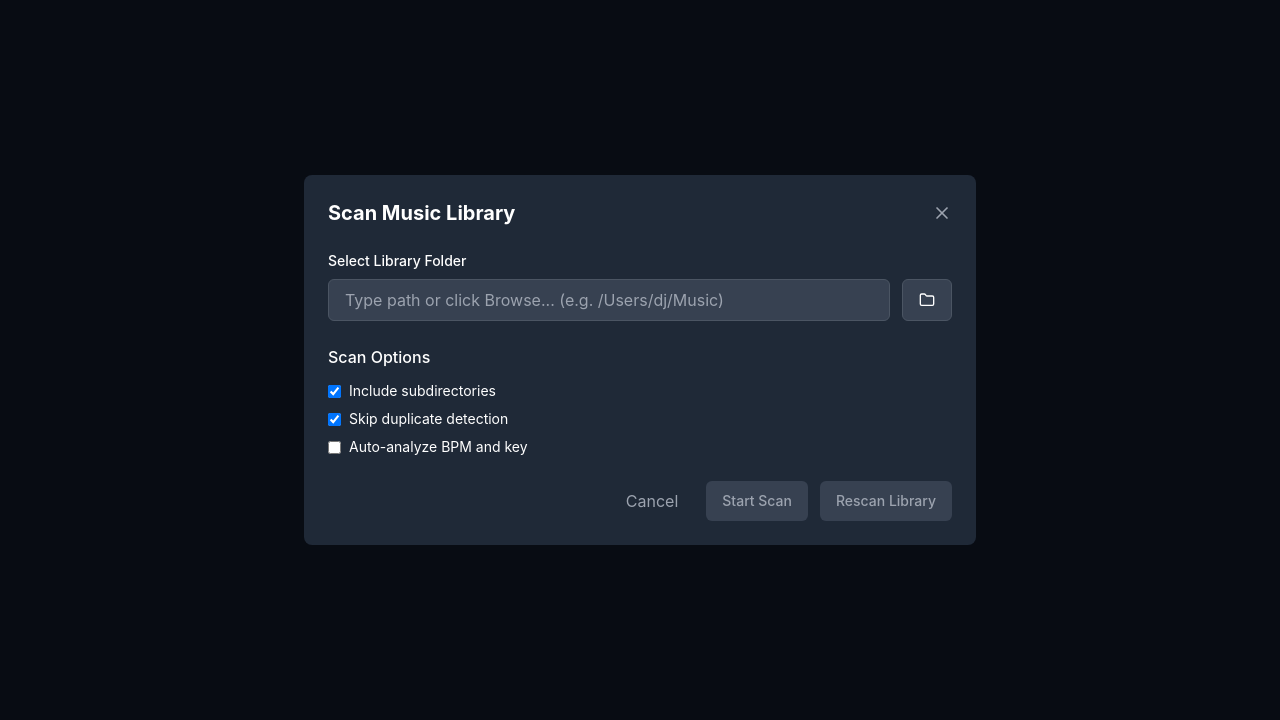
Test: ScanDialog Component › Folder Selection › enables scan button when path is entered
Check: the button "Start Scan" is disabled, box [706,481,808,521]
Step 1. Type "/Users/test/Music" into the field with placeholder "Type path or click Browse... (e.g. /Users/dj/Music)" → (609, 300), box [328,279,890,321]
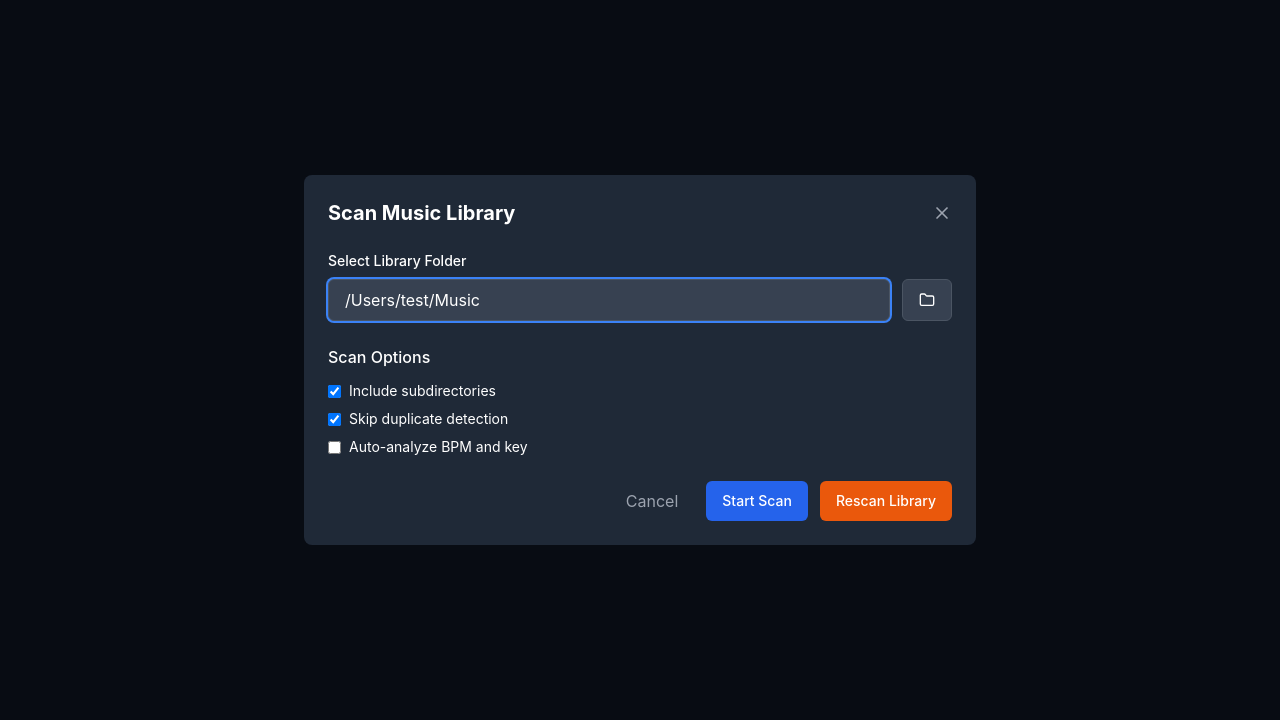
Check: the button "Start Scan" is enabled, box [706,481,808,521]
